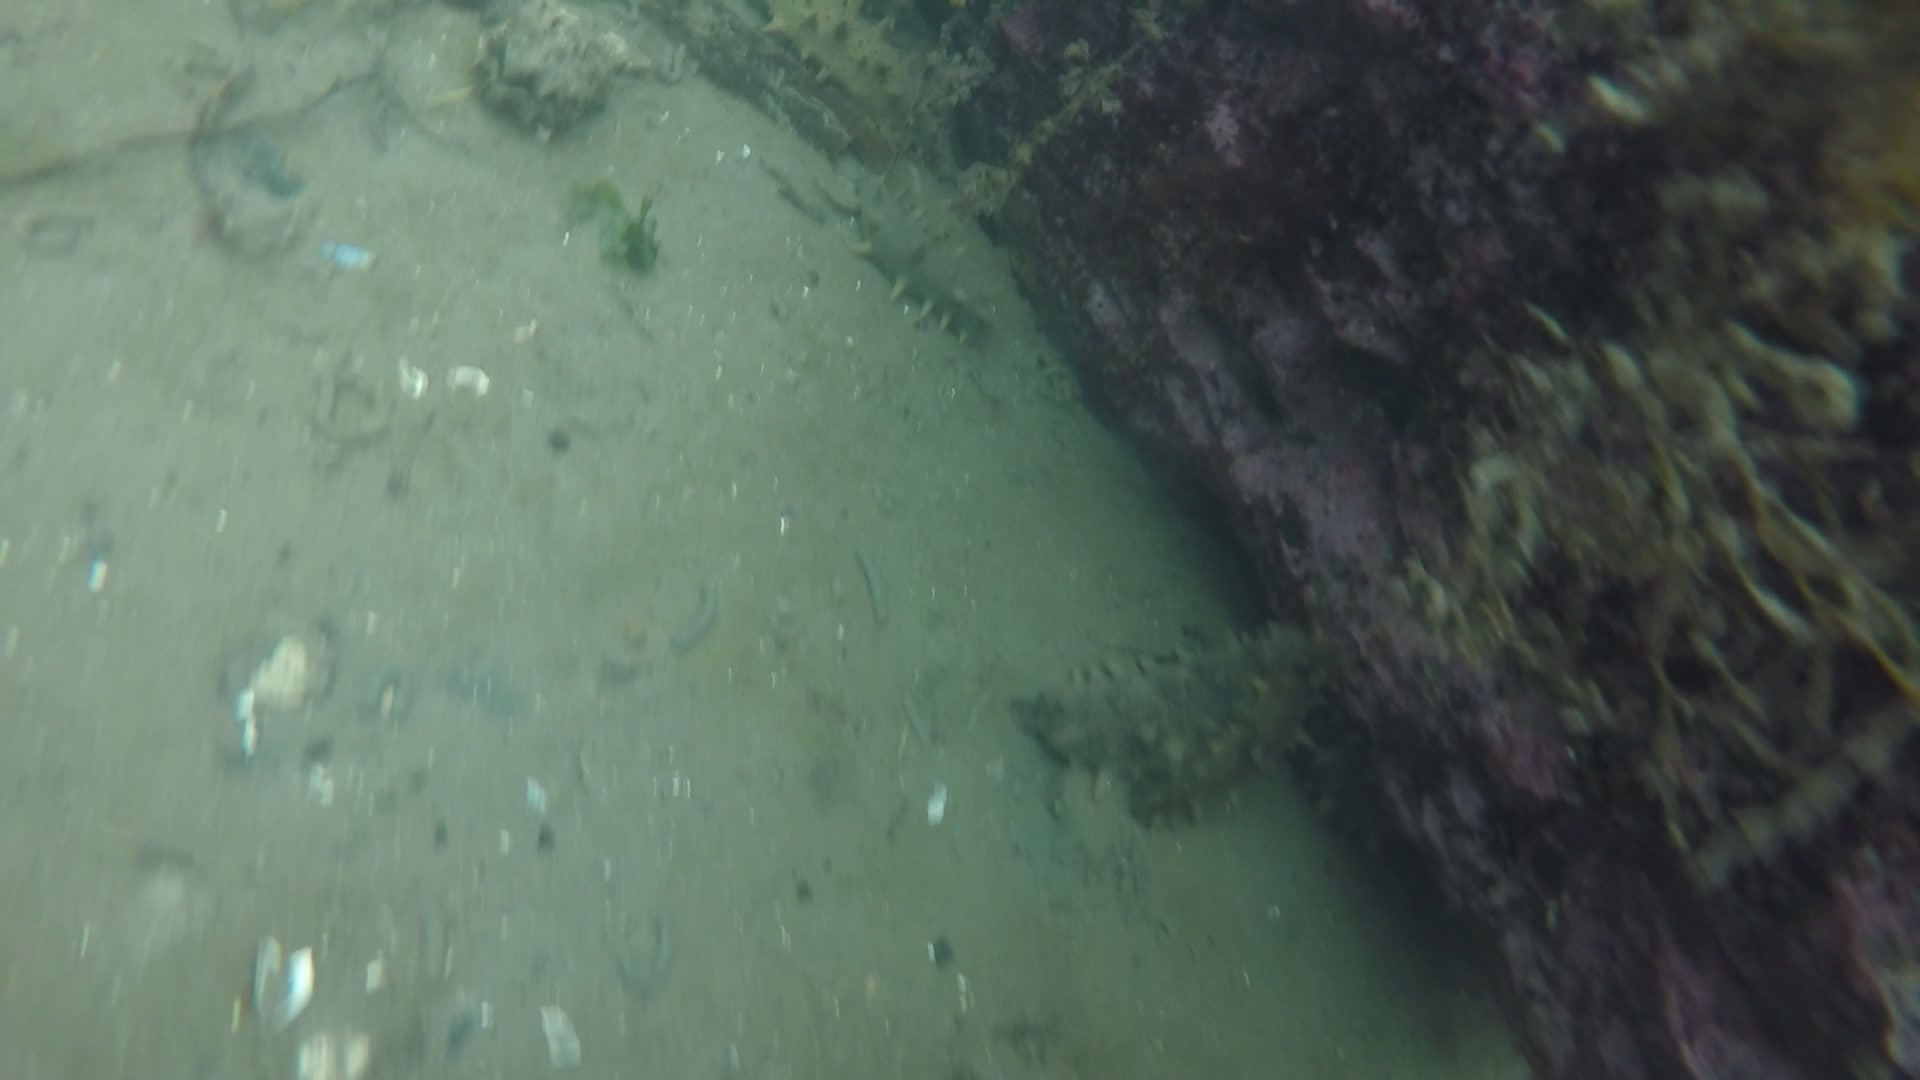holothurian: (1011, 628, 1315, 803), (825, 171, 997, 352), (1130, 673, 1305, 824), (752, 1, 942, 137)
